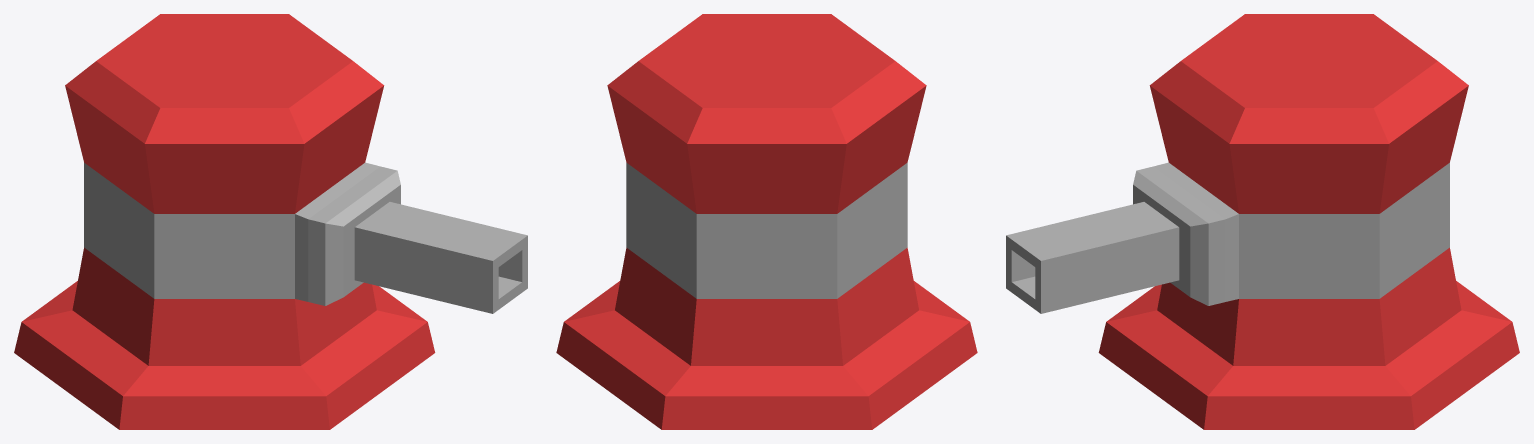
The model's file is Flamethrower 1.fbx.
3 renders of one model, left to right at view 1: azimuth 30°, elevation 25°; view 2: azimuth 150°, elevation 25°; view 3: azimuth 270°, elevation 25°, orthographic.
Parts seen in each view (by area): view 1: Cylinder; view 2: Cylinder; view 3: Cylinder.
Boxes of the visible parts, <box> form: Cylinder: <box>14,14,527,429</box>; Cylinder: <box>556,14,977,429</box>; Cylinder: <box>1006,14,1519,429</box>.
Bounding box in the file's own units: 237 × 202 × 322.
